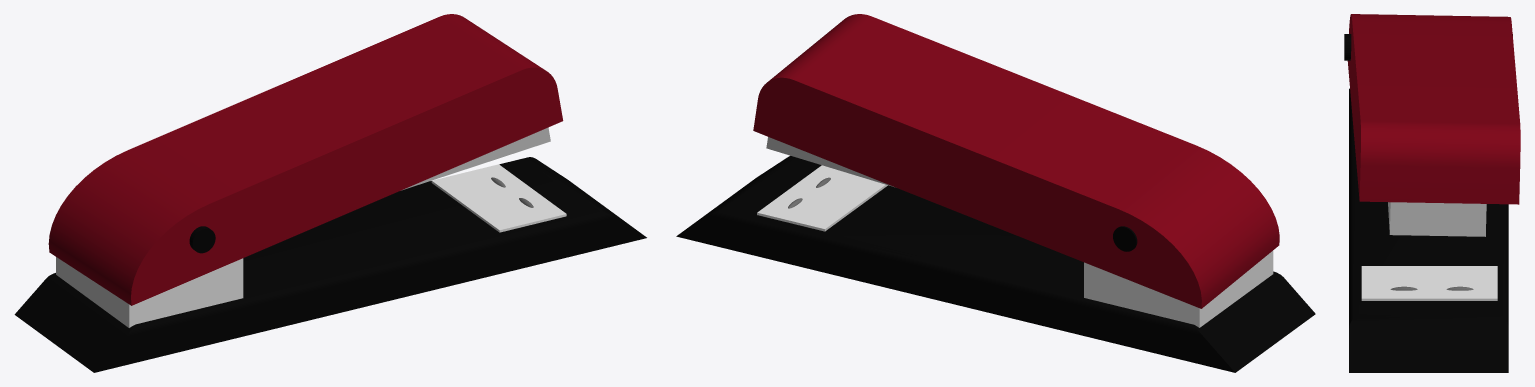
File: Stapler.fbx
The picture shows the model from 3 angles, left to right: view 1: azimuth 30°, elevation 25°; view 2: azimuth 150°, elevation 25°; view 3: azimuth 270°, elevation 25°; orthographic projection.
Parts seen in each view (by area): view 1: Cube.002, Cube, Cube.001, Cube.004, Cube.003, Cylinder; view 2: Cube.002, Cube, Cube.001, Cube.004, Cube.003; view 3: Cube.002, Cube, Cube.004, Cube.003, Cylinder.
Part boxes in pixels (x1,y1,x2,y2): Cube.002: (48, 14, 563, 305); Cube: (14, 157, 646, 372); Cube.001: (56, 257, 243, 327); Cube.004: (431, 164, 566, 232); Cube.003: (401, 127, 550, 190); Cylinder: (189, 226, 215, 253); Cube.002: (753, 14, 1279, 308); Cube: (676, 155, 1315, 372); Cube.001: (1084, 250, 1273, 327); Cube.004: (757, 165, 887, 231); Cube.003: (766, 137, 894, 187); Cube.002: (1347, 14, 1520, 204); Cube: (1349, 88, 1508, 372); Cube.004: (1361, 266, 1497, 300); Cube.003: (1388, 202, 1486, 236); Cylinder: (1344, 34, 1512, 60).
Bounding box in the file's own units: 802 × 268 × 221.
